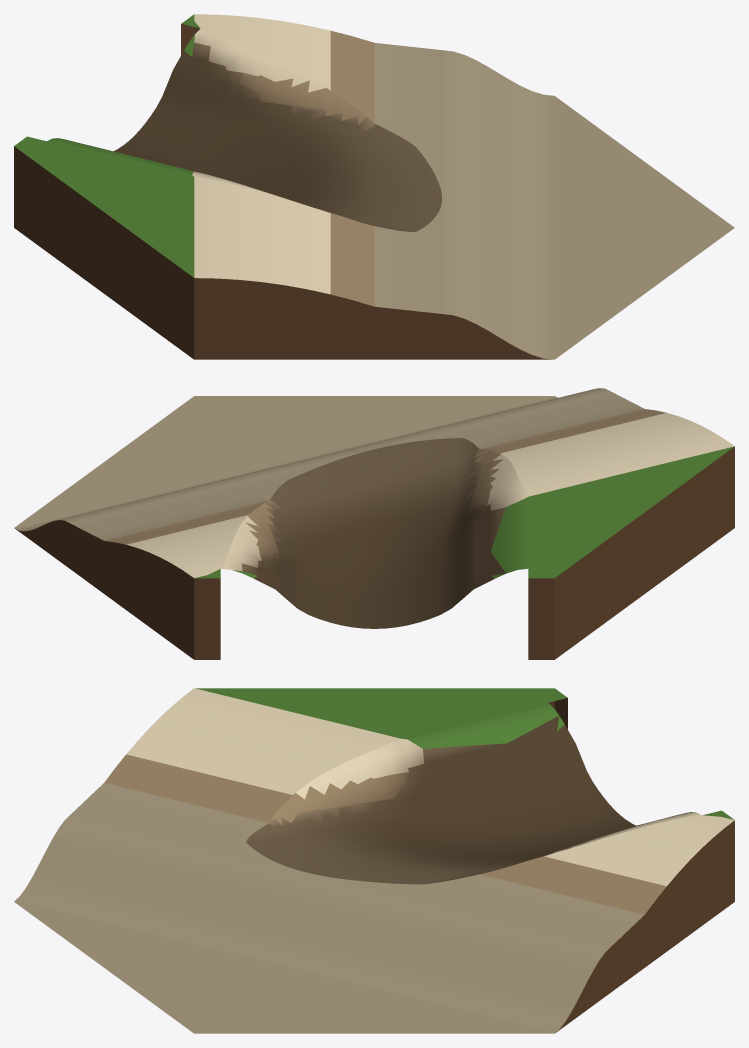
Rendered from river_mouth_l_base.glb.
The picture shows the model from 3 angles, top to bottom: view 1: azimuth 30°, elevation 25°; view 2: azimuth 150°, elevation 25°; view 3: azimuth 270°, elevation 25°; orthographic projection.
Visible parts, largest first — view 1: river_mouth_l_base_lod0; view 2: river_mouth_l_base_lod0; view 3: river_mouth_l_base_lod0.
Part boxes in pixels (left/top/right/bottom): river_mouth_l_base_lod0: left=14, top=14, right=734, bottom=359; river_mouth_l_base_lod0: left=14, top=388, right=734, bottom=659; river_mouth_l_base_lod0: left=14, top=688, right=734, bottom=1033.
Size of what is drawn, in the model's own units: 27.71 by 4 by 32.
